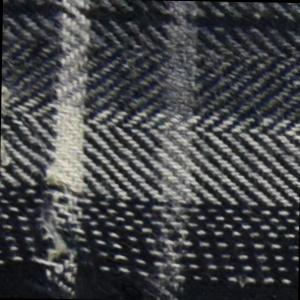Damage: (1, 70, 103, 300)
